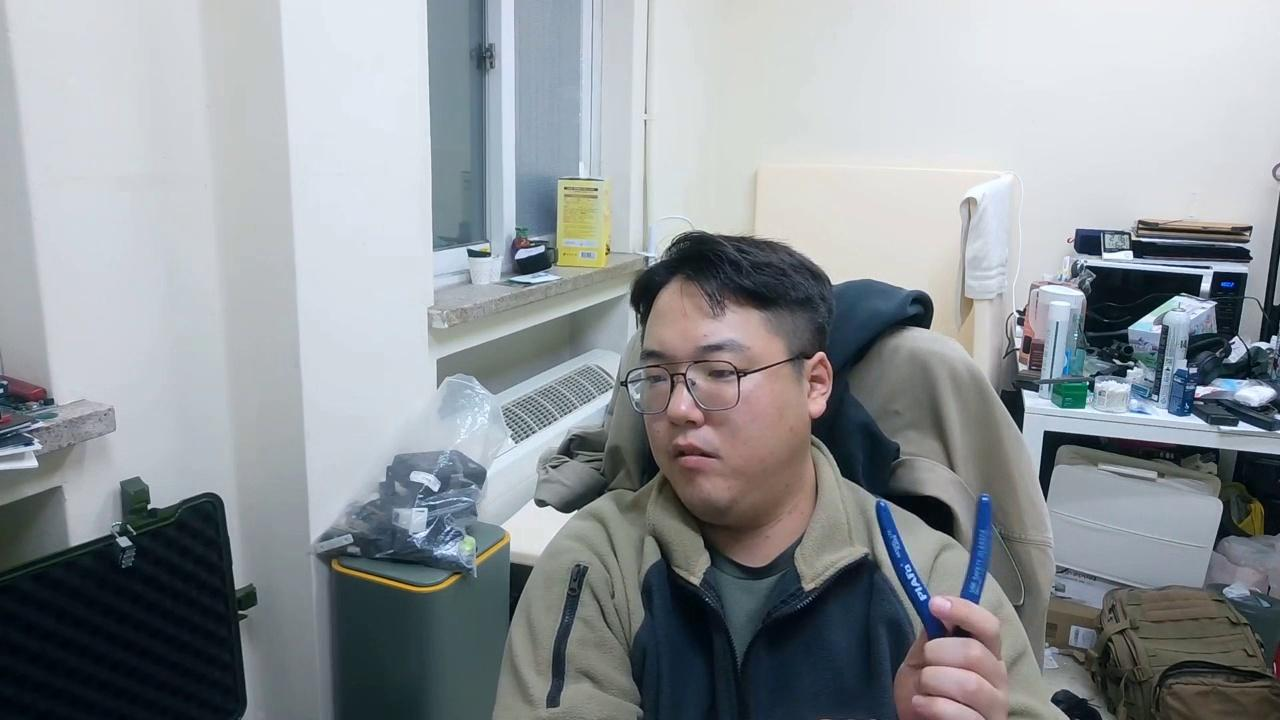blue_pliers: (872, 491, 996, 643)
